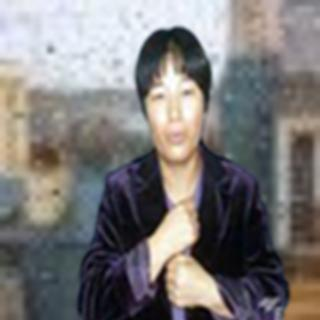CAREFUL: (153, 197, 210, 314)
